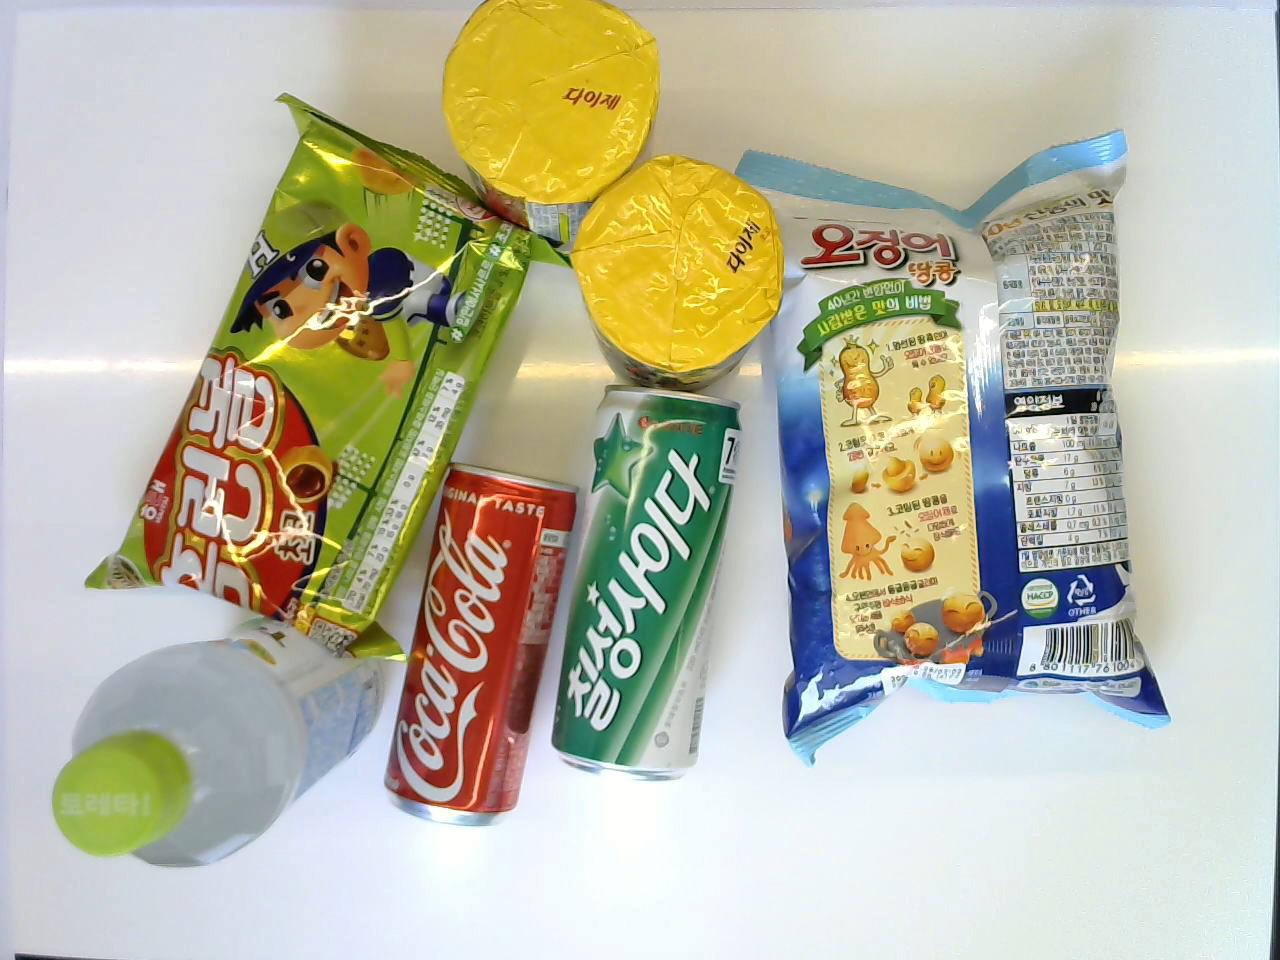cidar: (550, 389, 752, 782)
coke: (377, 471, 583, 827)
diget_choco: (572, 155, 787, 398)
diget_ori: (443, 0, 667, 260)
homerunball: (83, 92, 539, 686)
squid_peanut: (730, 129, 1172, 759)
toreta: (57, 602, 408, 885)
